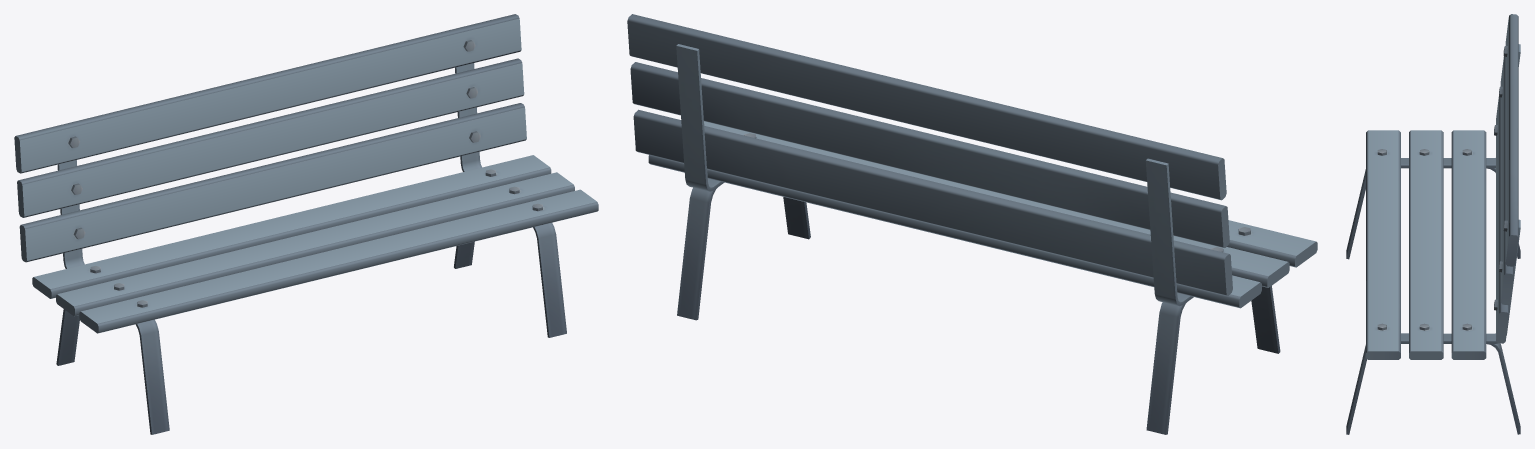
The model's file is Banch2.fbx.
The picture shows the model from 3 angles, left to right: view 1: azimuth 30°, elevation 25°; view 2: azimuth 150°, elevation 25°; view 3: azimuth 270°, elevation 25°; orthographic projection. The views are drawn at different scales.
Visible parts, largest first — view 1: polySurface19; view 2: polySurface19; view 3: polySurface19.
Part boxes in pixels (x1,y1,x2,y2): polySurface19: [14, 14, 598, 434]; polySurface19: [627, 14, 1317, 434]; polySurface19: [1346, 14, 1520, 434].
Bounding box in the file's own units: 226 × 105 × 75.55.
